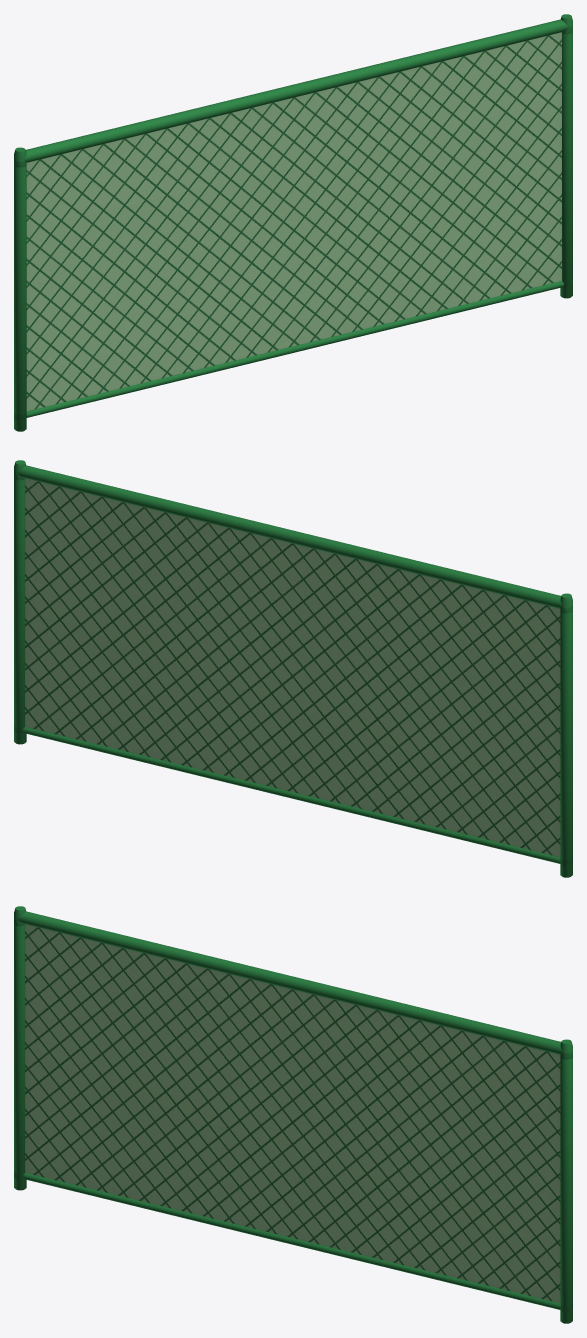
The model's file is fence-panel.fbx.
3 views of the same model, one above another, from view 1: azimuth 30°, elevation 25°; view 2: azimuth 150°, elevation 25°; view 3: azimuth 330°, elevation 25° (orthographic).
Parts seen in each view (by area): view 1: fence-panel; view 2: fence-panel; view 3: fence-panel.
Boxes of the visible parts, x1=… form: fence-panel: x1=14, y1=14, x2=572, y2=431; fence-panel: x1=14, y1=460, x2=572, y2=877; fence-panel: x1=14, y1=906, x2=572, y2=1323.
Bounding box in the file's own units: 50000 × 24000 × 1000.
1 material, 1 textured.
